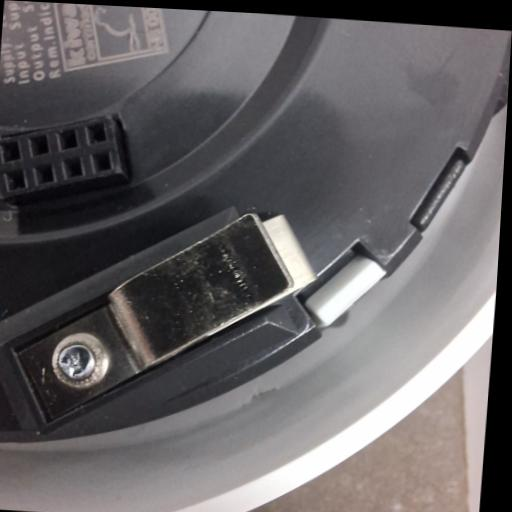yayli: (0, 194, 322, 450)
